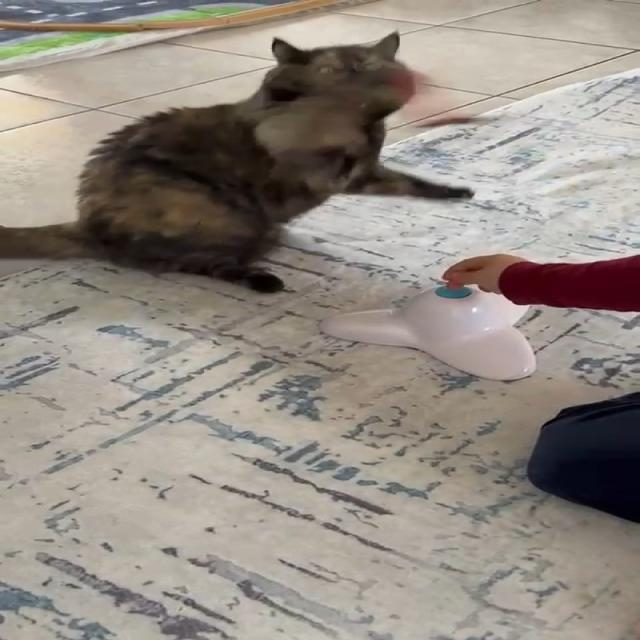authorized: (0, 29, 475, 294)
